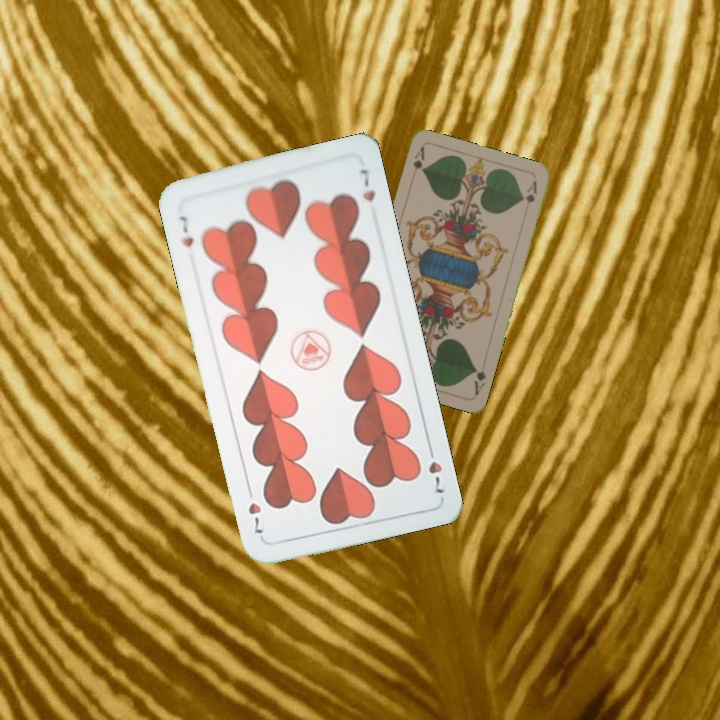GA: (470, 364, 489, 398), (409, 143, 427, 172)
H7: (423, 440, 447, 496), (175, 212, 196, 250)
